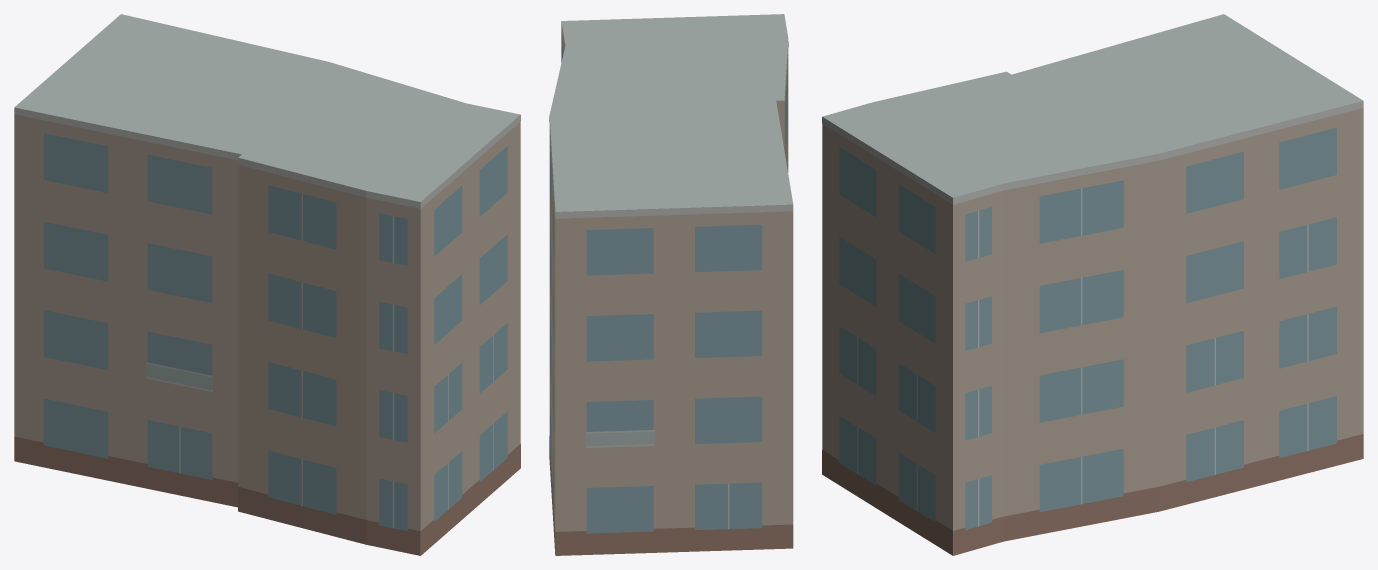
File: survey-upis-33028097.glb
The picture shows the model from 3 angles, left to right: view 1: azimuth 30°, elevation 25°; view 2: azimuth 150°, elevation 25°; view 3: azimuth 270°, elevation 25°; orthographic projection. The views are drawn at different scales.
Visible parts, largest first — view 1: survey-upis-33028097.tmp; view 2: survey-upis-33028097.tmp; view 3: survey-upis-33028097.tmp.
Part boxes in pixels (<box>): survey-upis-33028097.tmp: <box>14,14,520,555</box>; survey-upis-33028097.tmp: <box>549,14,793,555</box>; survey-upis-33028097.tmp: <box>822,14,1363,555</box>.
Bounding box in the file's own units: 13.92 × 12.62 × 17.31.
